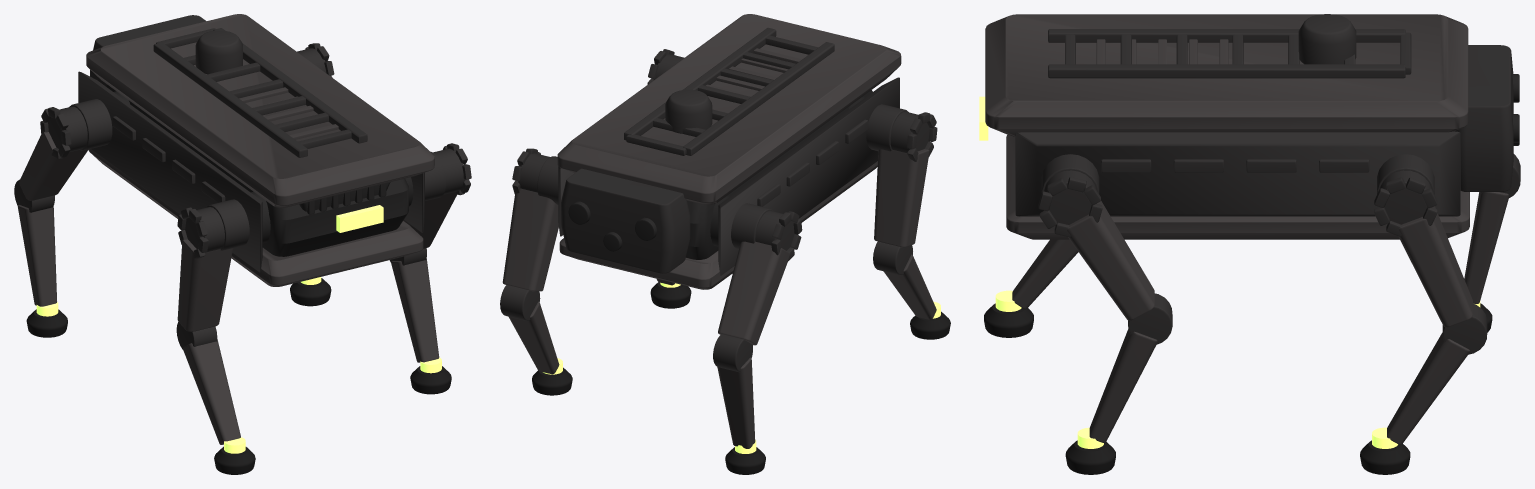
The model's file is quadruped.glb.
3 views of the same model, side by side, from view 1: azimuth 30°, elevation 25°; view 2: azimuth 150°, elevation 25°; view 3: azimuth 270°, elevation 25° (orthographic). The views are drawn at different scales.
Parts seen in each view (by area): view 1: QRP_UpperShell, QRP_SidePanel_Left, QRP_PayloadRail, QRP_TorsoFrame, QRP_LowerShell, QRP_UpperLeg_RL, QRP_LowerLeg_RL, QRP_LowerLeg_RR, QRP_LowerLeg_FL, QRP_UpperLeg_FL, QRP_HipPitchActuator_RL, QRP_HipPitchActuator_FL (+17 smaller); view 2: QRP_UpperShell, QRP_SidePanel_Left, QRP_FrontSensorHead, QRP_PayloadRail, QRP_UpperLeg_FL, QRP_UpperLeg_RL, QRP_UpperLeg_FR, QRP_LowerShell, QRP_LowerLeg_FL, QRP_TorsoFrame, QRP_HipPitchActuator_RL, QRP_LowerLeg_FR (+15 smaller); view 3: QRP_UpperShell, QRP_SidePanel_Right, QRP_PayloadRail, QRP_LowerShell, QRP_FrontSensorHead, QRP_UpperLeg_RR, QRP_UpperLeg_FR, QRP_LowerLeg_FR, QRP_LowerLeg_RR, QRP_HipPitchActuator_FR, QRP_HipPitchActuator_RR, QRP_LowerLeg_FL (+9 smaller).
Boxes of the visible parts, x1,y1,x2,y2 form: QRP_UpperShell: (86,14,434,207); QRP_SidePanel_Left: (78,71,262,272); QRP_PayloadRail: (153,28,367,157); QRP_TorsoFrame: (105,84,413,256); QRP_LowerShell: (88,149,423,286); QRP_UpperLeg_RL: (177,239,233,331); QRP_LowerLeg_RL: (183,339,240,444); QRP_LowerLeg_RR: (391,258,439,362); QRP_LowerLeg_FL: (18,205,56,306); QRP_UpperLeg_FL: (19,131,88,200); QRP_HipPitchActuator_RL: (177,207,224,259); QRP_HipPitchActuator_FL: (40,106,87,158); QRP_UpperShell: (557,14,901,204); QRP_SidePanel_Left: (718,77,899,275); QRP_FrontSensorHead: (561,168,690,273); QRP_PayloadRail: (624,27,834,155); QRP_UpperLeg_FL: (718,241,790,345); QRP_UpperLeg_RL: (874,149,929,247); QRP_UpperLeg_FR: (502,188,558,291); QRP_LowerShell: (559,161,877,289); QRP_LowerLeg_FL: (717,357,755,448); QRP_TorsoFrame: (686,90,872,259); QRP_HipPitchActuator_RL: (890,112,937,161); QRP_LowerLeg_FR: (509,301,559,374); QRP_UpperShell: (985,14,1468,136); QRP_SidePanel_Right: (1015,131,1460,216); QRP_PayloadRail: (1048,29,1411,78); QRP_LowerShell: (1006,134,1469,239); QRP_FrontSensorHead: (1455,45,1513,191); QRP_UpperLeg_RR: (1067,201,1154,320); QRP_UpperLeg_FR: (1398,206,1472,327); QRP_LowerLeg_FR: (1387,332,1469,444); QRP_LowerLeg_RR: (1089,329,1157,442); QRP_HipPitchActuator_FR: (1374,170,1437,236); QRP_HipPitchActuator_RR: (1038,170,1102,237); QRP_LowerLeg_FL: (1464,192,1508,303).
Size of the model in its own units: 0.6837 by 0.747 by 0.9686.
